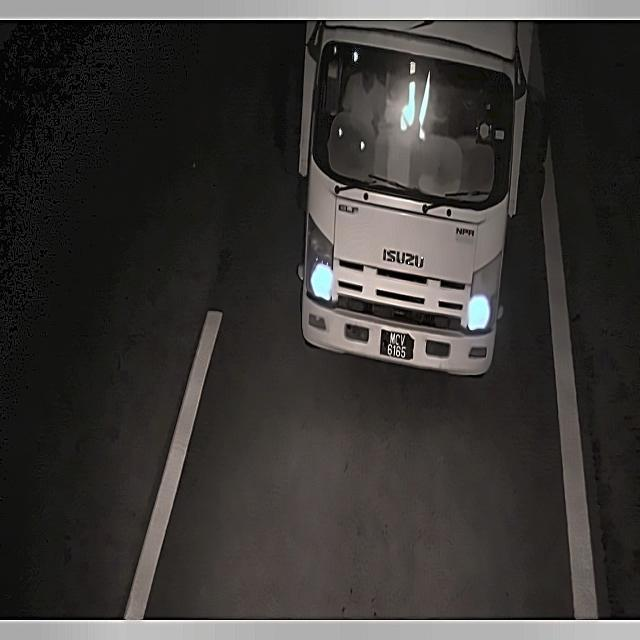car: (378, 327, 415, 365)
